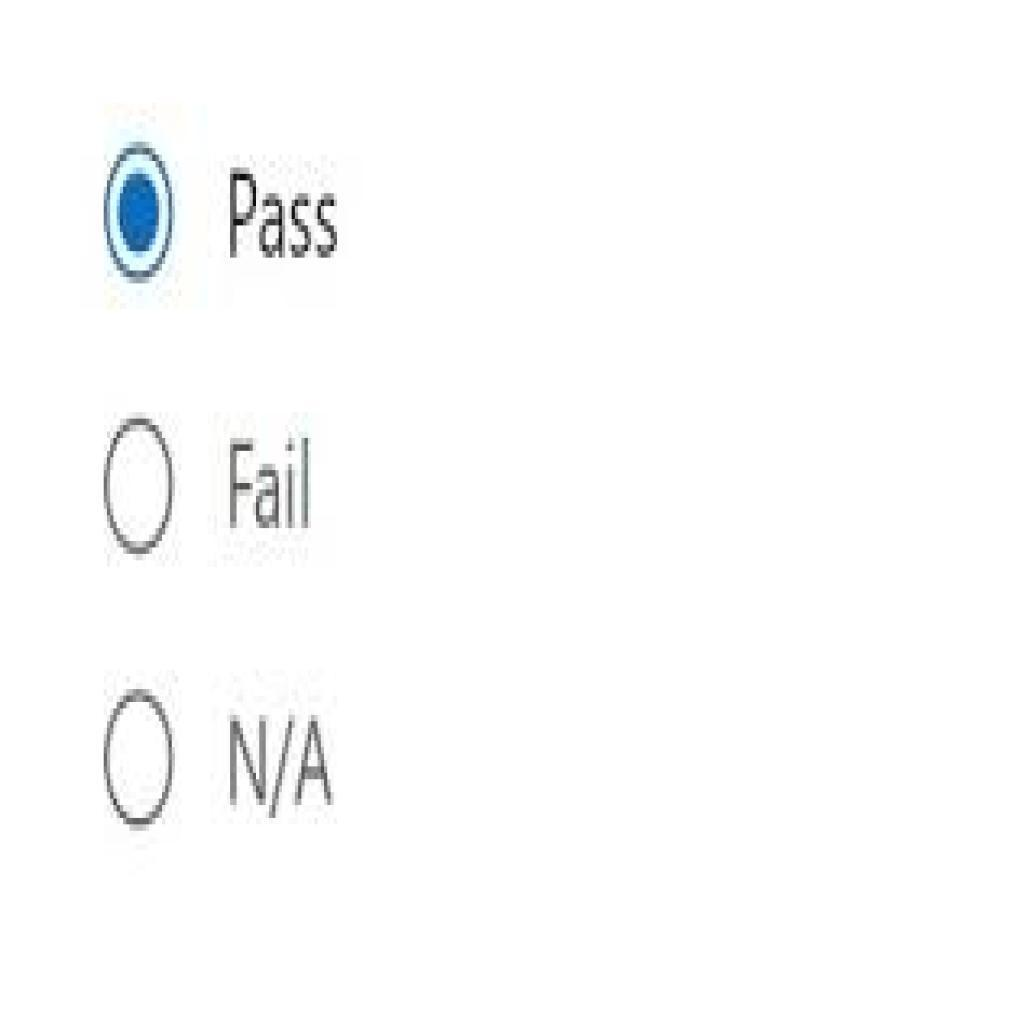label: (225, 160, 346, 276), (232, 708, 333, 829), (227, 431, 318, 537)
radio: (101, 413, 178, 561), (102, 142, 180, 286), (102, 685, 177, 834)
